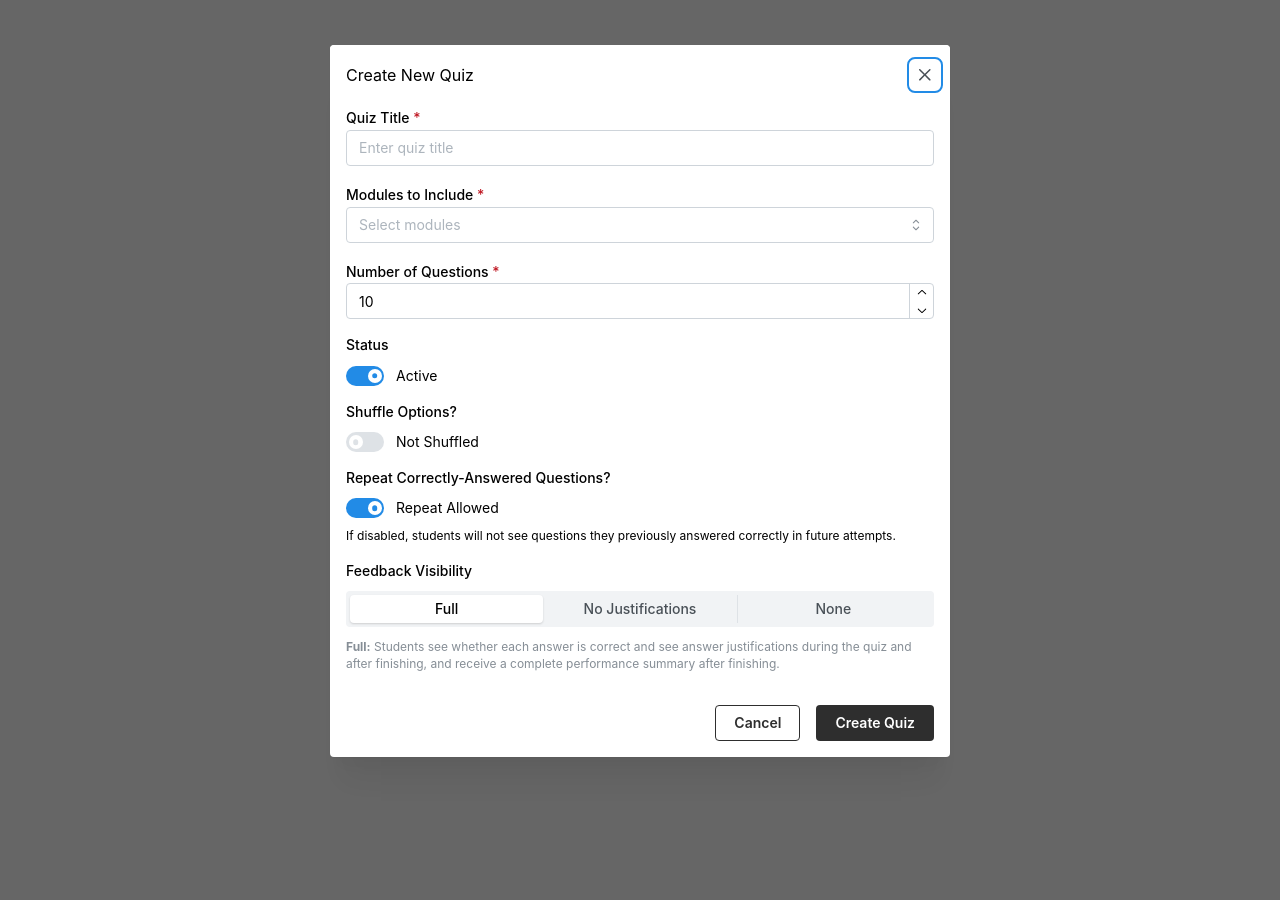
Scenario: EditQuizModal › shows error when no modules selected and save clicked
Expected: the button "Create Quiz" is shown, [816,705,934,741]
# Fill in the title so title validation passes
Type "Valid Title" into the field labelled "Quiz Title *". click: coordinates (640, 148)
box: [346,130,934,166]
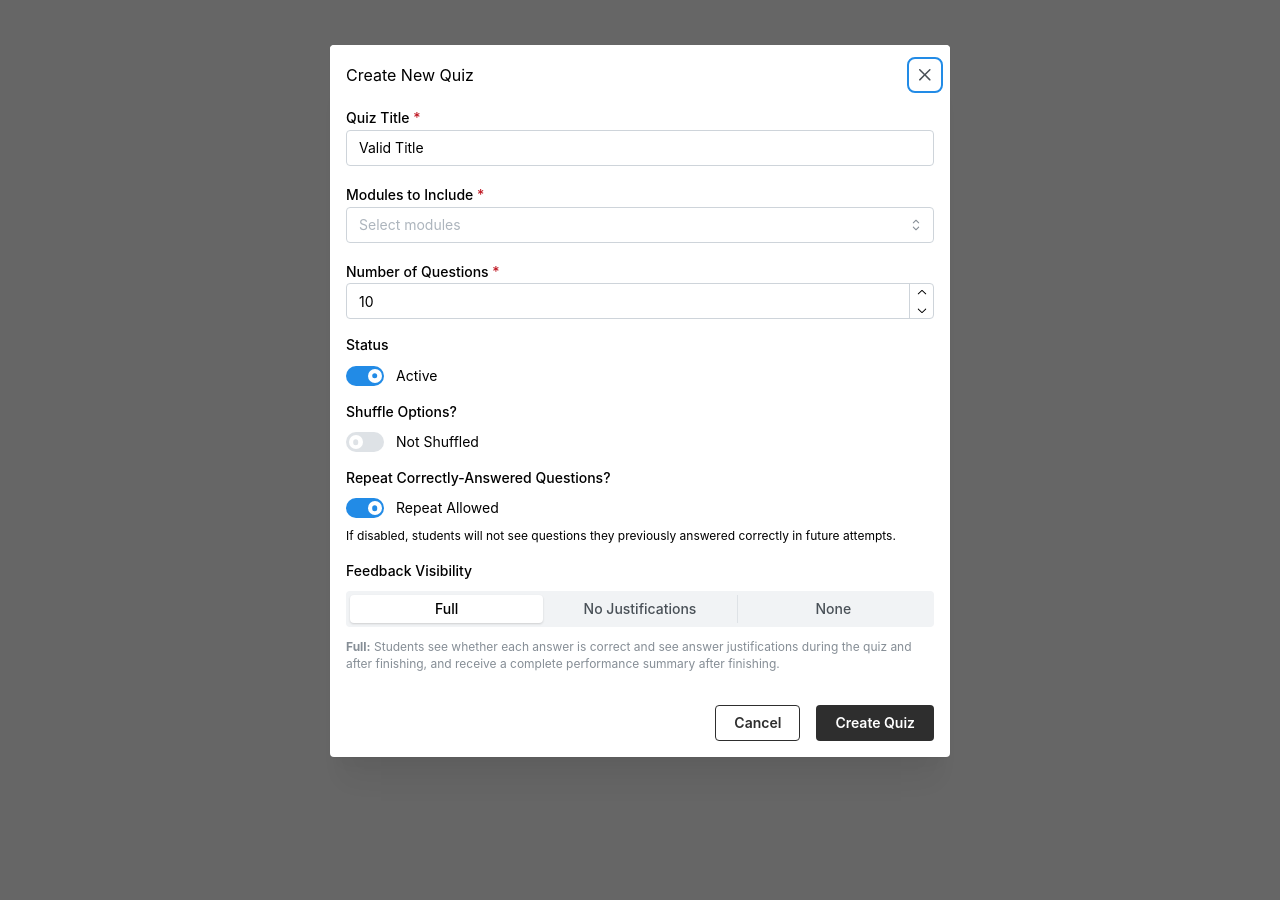
Click the button "Create Quiz". click: coordinates (875, 723)
box: [816,705,934,741]
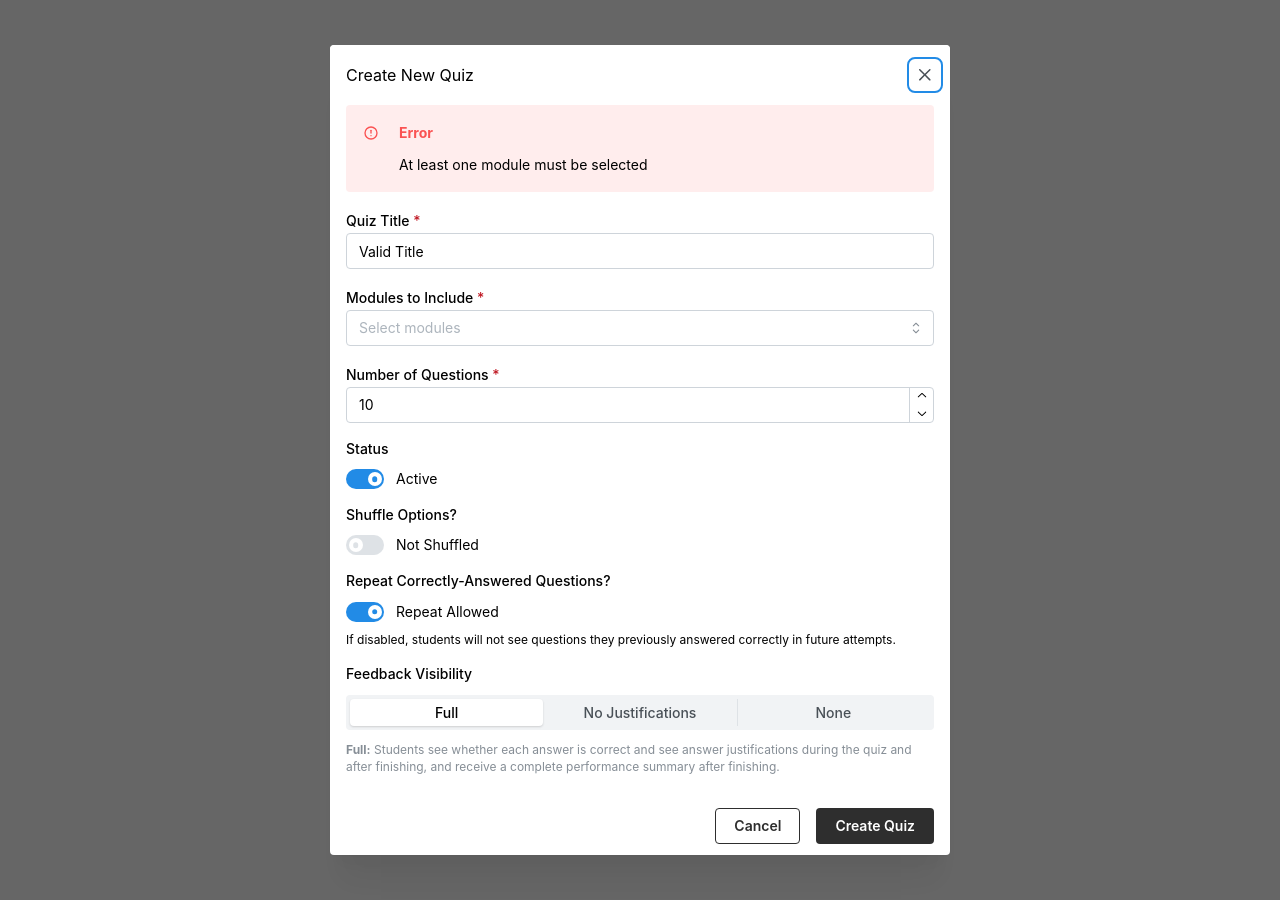
Now the message "Error At least one module must be selected" is shown, box [346,105,934,192]
